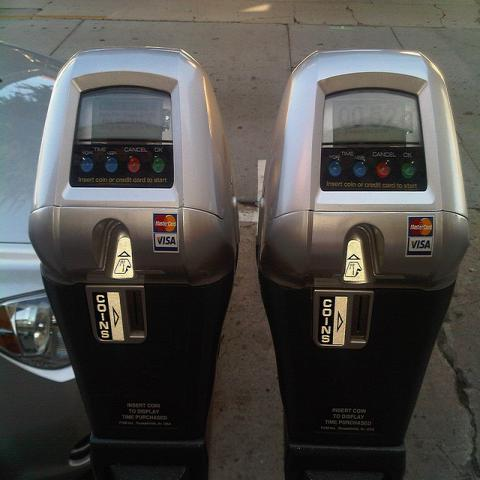car: (0, 36, 101, 473)
